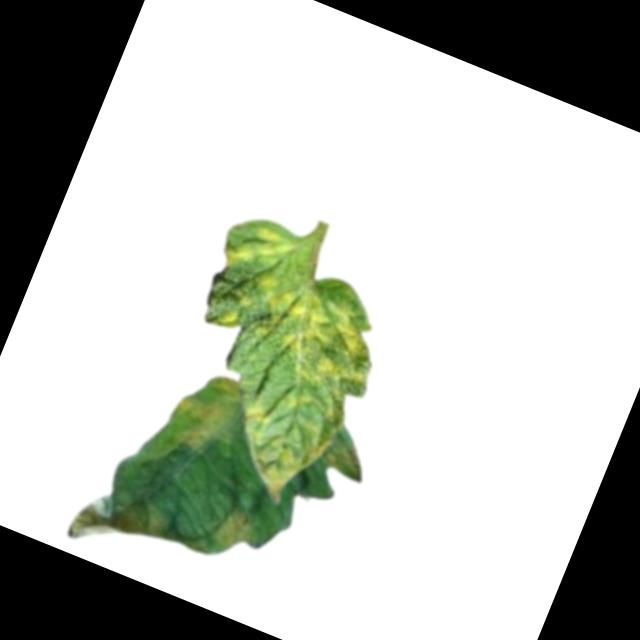Leaf_Mold: (174, 213, 410, 429), (131, 353, 250, 492), (63, 476, 179, 574), (229, 428, 311, 508), (201, 500, 262, 559), (313, 436, 373, 485), (238, 400, 276, 434)
